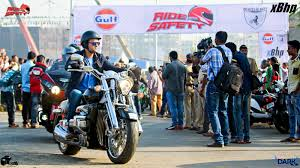helmet: (82, 29, 102, 52)
